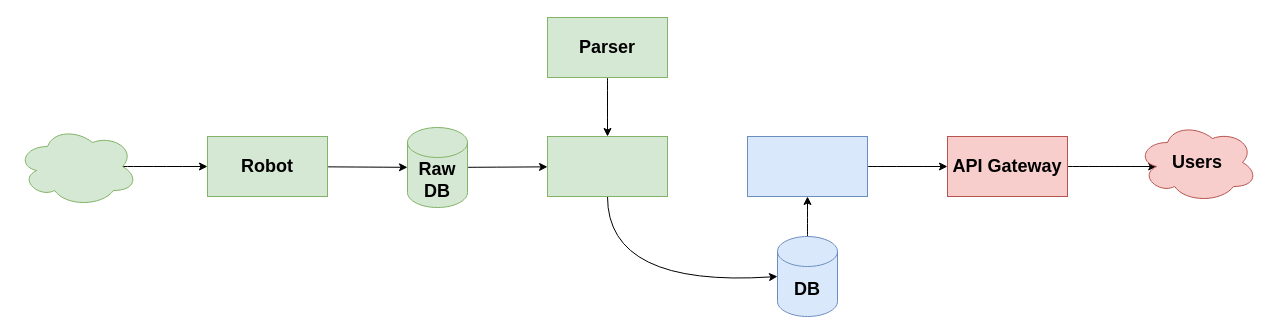
Some shapes in this 1275 by 334 pixel diagram are drawn without their labels. Each missing label, with the centre of its shape:
Preprocessor: pixel 607 166
Search: pixel 807 166
web: pixel 77 166
